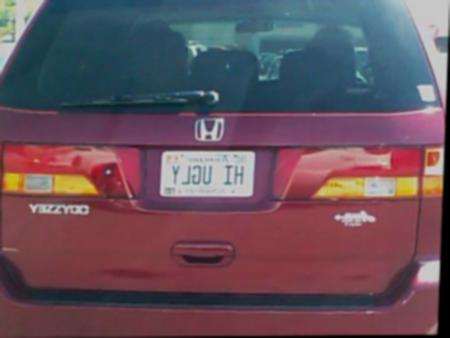License_Plate: (155, 147, 258, 199)
